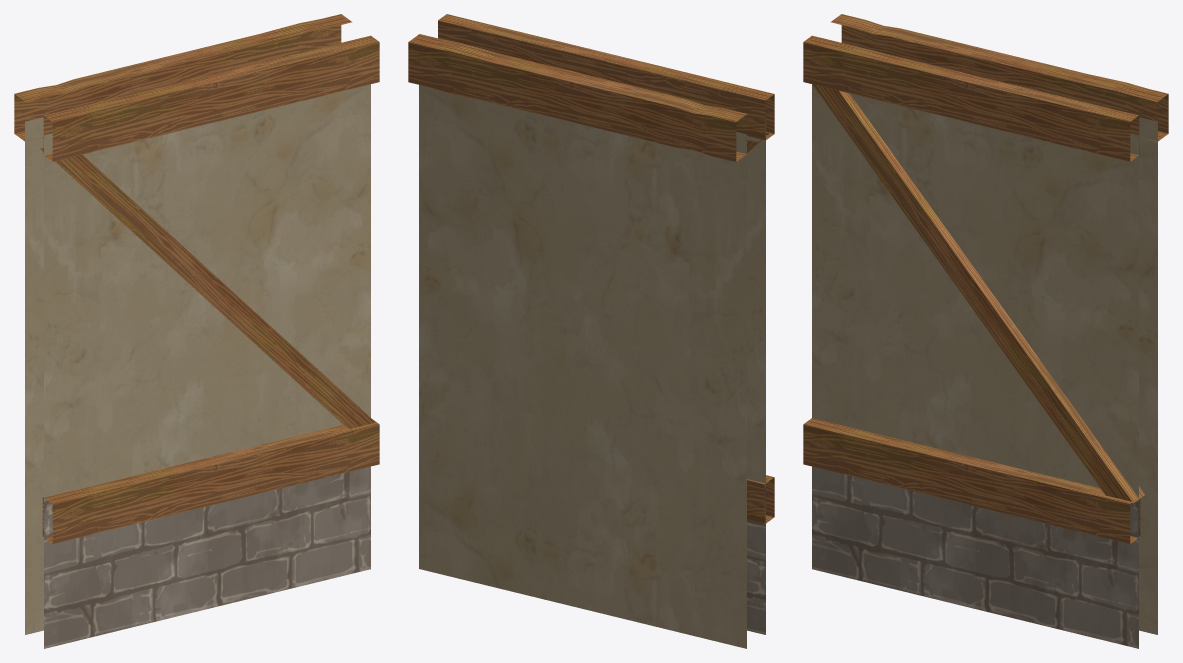
The model's file is Wall_Plaster_Straight_L.gltf.
3 renders of one model, left to right at view 1: azimuth 30°, elevation 25°; view 2: azimuth 150°, elevation 25°; view 3: azimuth 330°, elevation 25°, orthographic.
Visible parts, largest first — view 1: Wall_Plaster_Straight_L; view 2: Wall_Plaster_Straight_L; view 3: Wall_Plaster_Straight_L.
Part boxes in pixels (bbox=[...]): Wall_Plaster_Straight_L: bbox=[14, 14, 379, 648]; Wall_Plaster_Straight_L: bbox=[408, 14, 774, 648]; Wall_Plaster_Straight_L: bbox=[803, 14, 1168, 648].
Bounding box in the file's own units: 2 × 3.12 × 0.4065.
3 materials, 3 textured.
